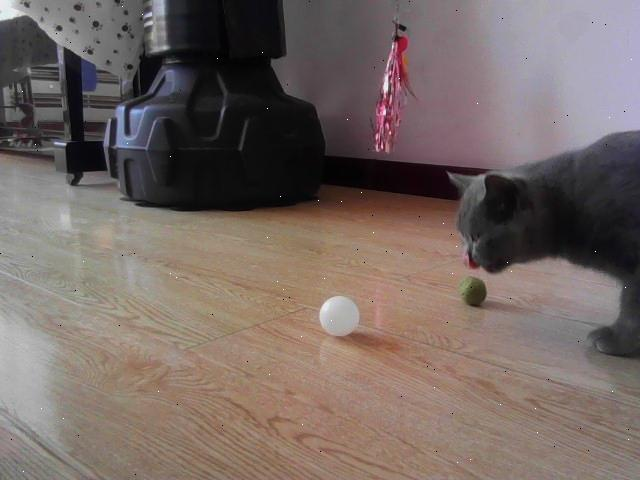ball: (320, 296, 360, 336)
